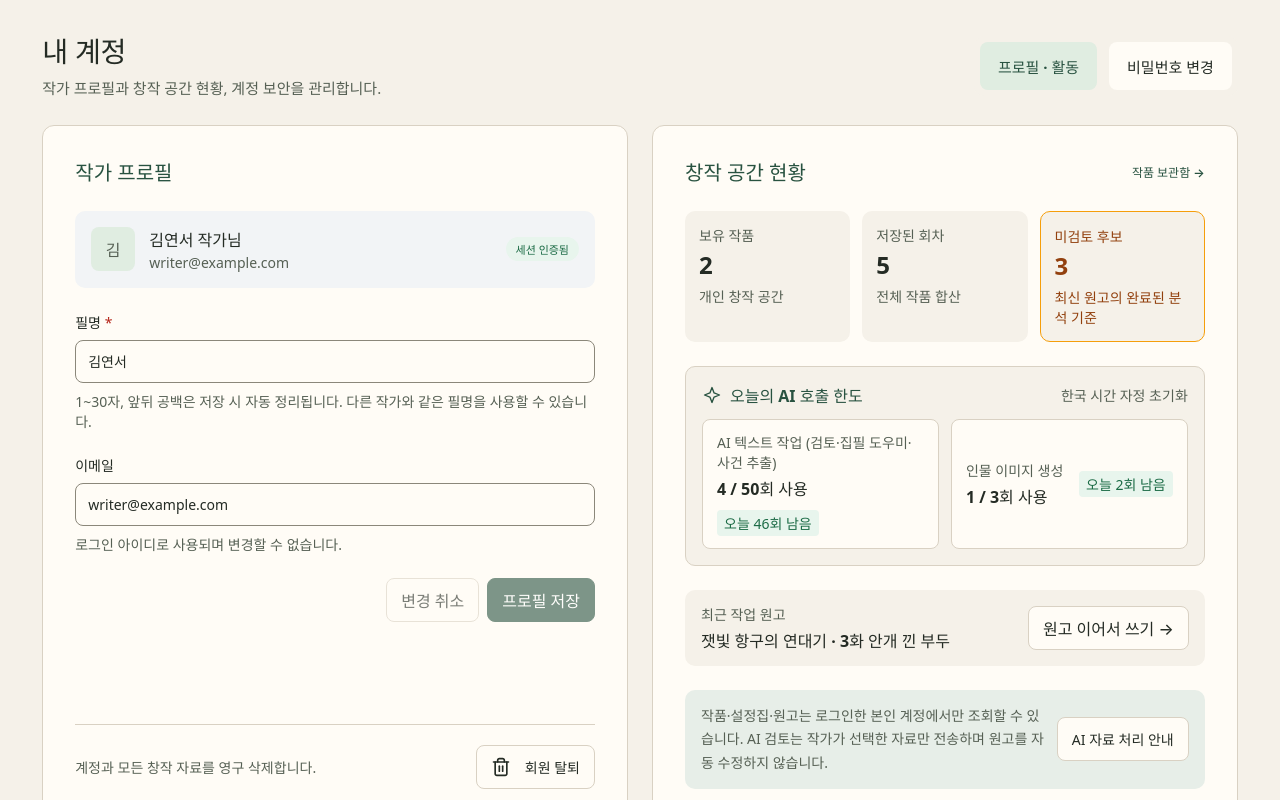
창작 공간 현황과 프로필을 표시하고 필명 수정 시 인증 상태를 즉시 갱신한다
expect the text "잿빛 항구의 연대기 · 3화 안개 낀 부두" is shown: met, box [701,628,950,652]
expect the text "2" is shown: met, box [699,248,713,281]
Replace the text in the field labelled "필명 * 1~30자, 앞뒤 공백은 저장 시 자동 정리됩니다. 다른 작가와 같은 필명을 사용할 수 있습니다." with "  이도윤  " at (335,361), box [75,340,595,383]
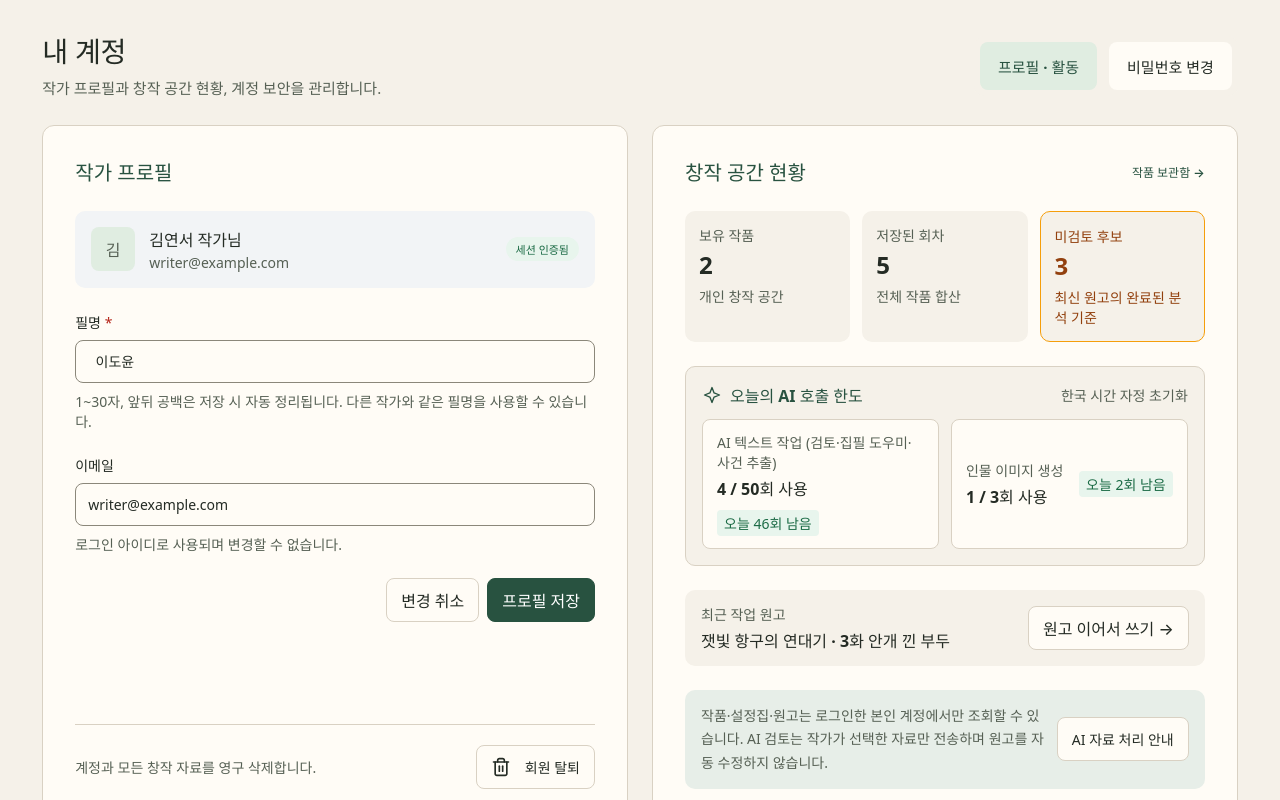
Click the button "프로필 저장".
click(541, 600)  # box [487,578,595,622]
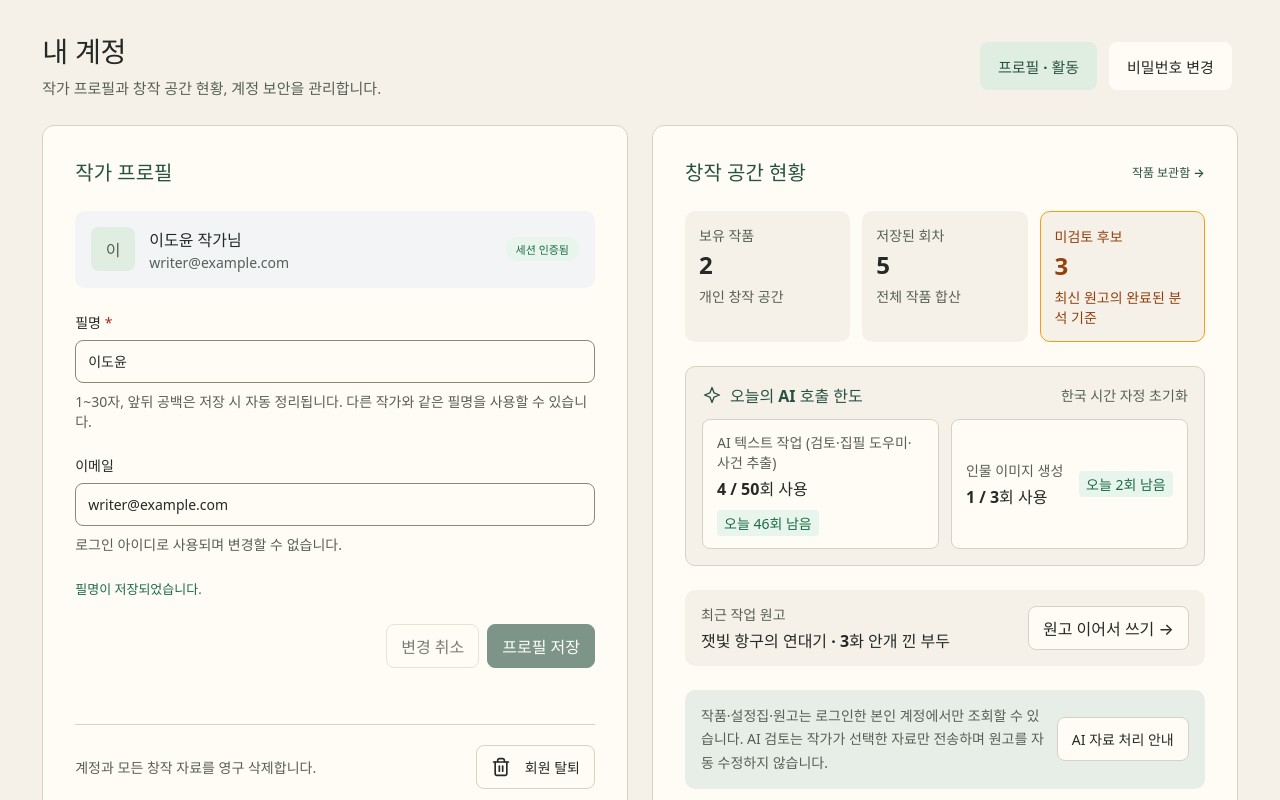
expect the text "필명이 저장되었습니다." is shown: met, box [75,580,202,598]
expect the text "이도윤 작가님" is shown: met, box [149,229,242,251]
